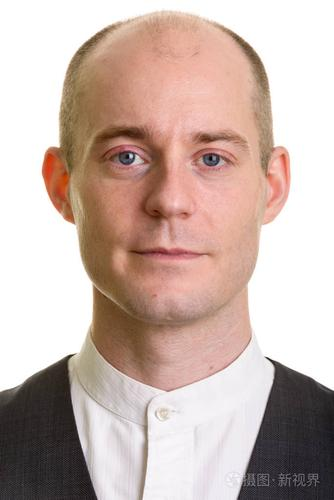no_mask: (63, 33, 276, 324)
